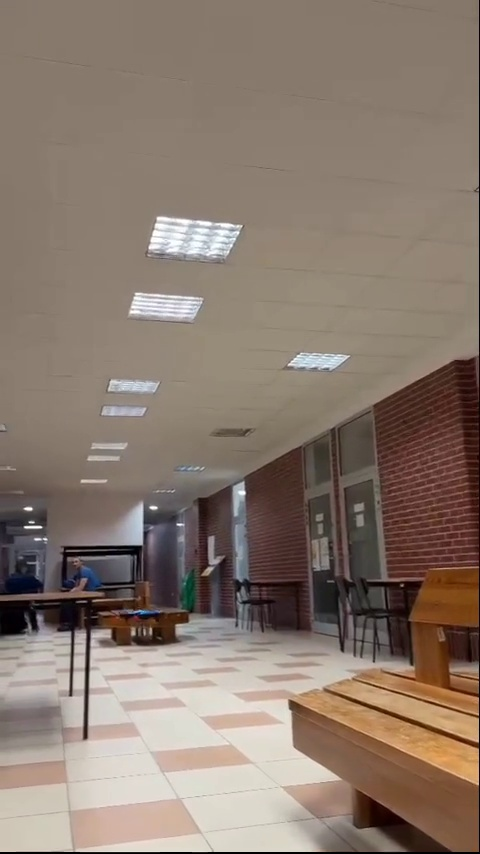drone: (129, 608, 162, 620)
no vest: (57, 554, 101, 623)
